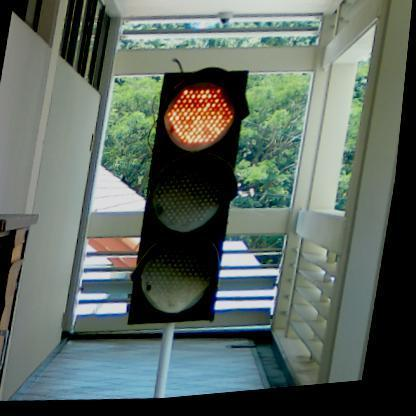red: (126, 61, 260, 334)
